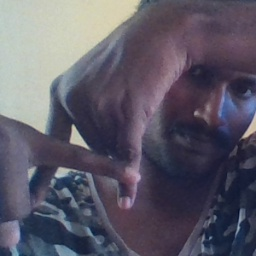H: (18, 83, 159, 221)
